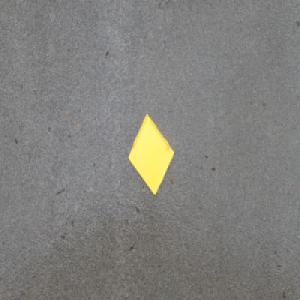PlasticPart: (127, 112, 174, 196)
